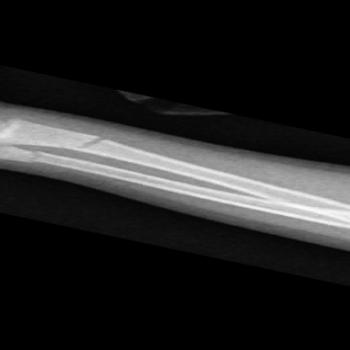Fracture: (68, 133, 112, 156), (19, 147, 53, 167)
